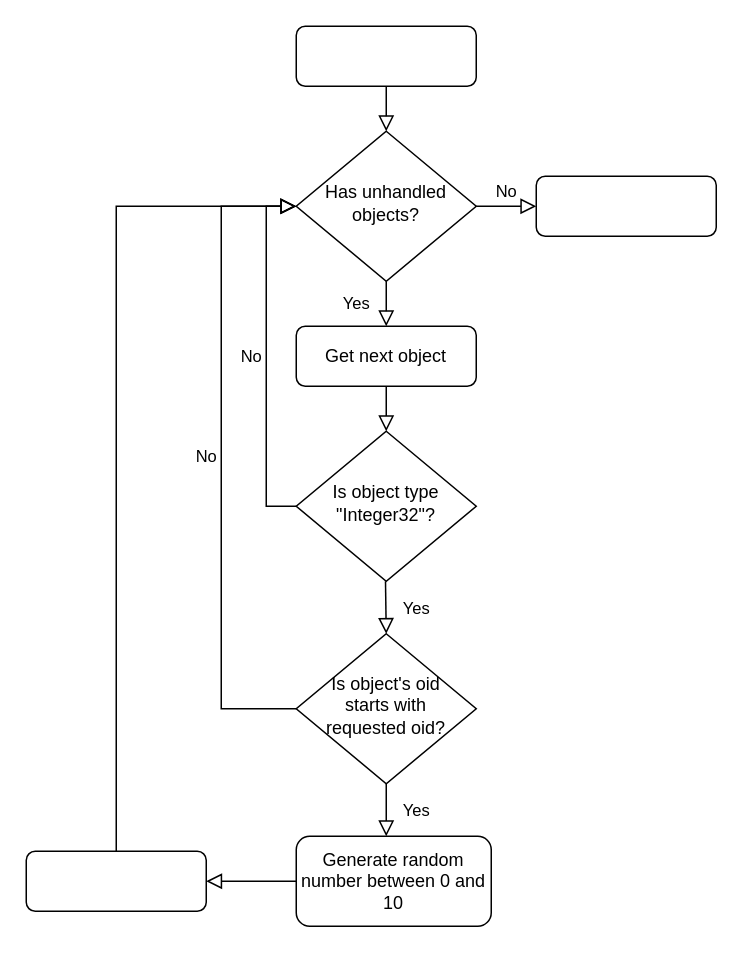
Image size: 743x953. Some labels were removed from this diagram. The shapes that lost their labels are listed below. From the top down, each one's centre as x and y in pixels, then its label:
point 385,55: Load the MIB file in the memory
point 625,205: Return collected varbinds
point 115,880: Store varbind
